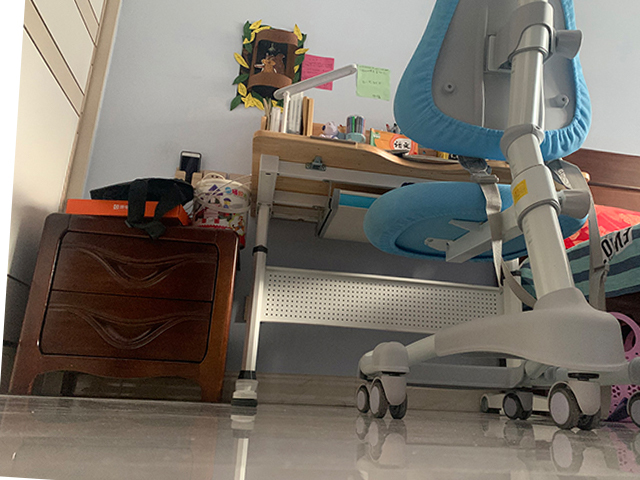cabinet: (8, 212, 238, 402)
table: (229, 128, 521, 409)
